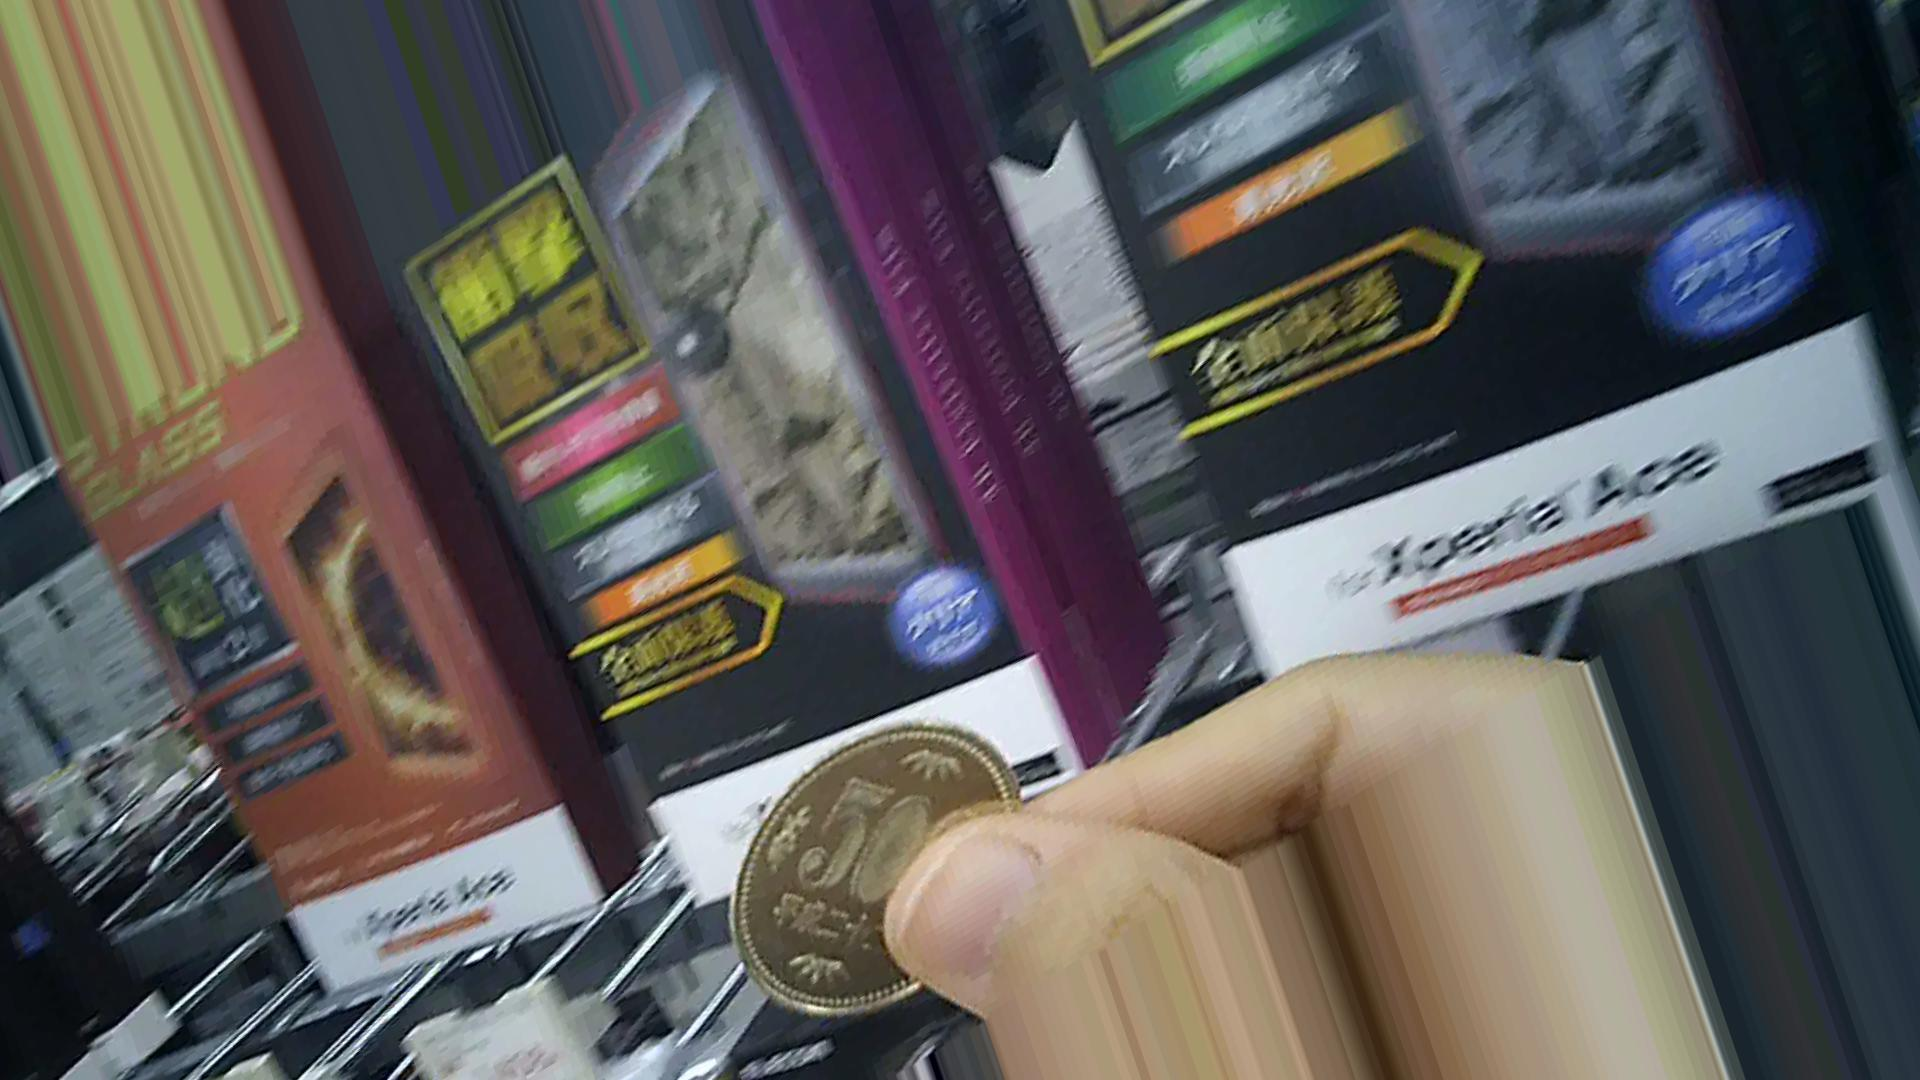500 Yen: (723, 713, 1009, 1018)
